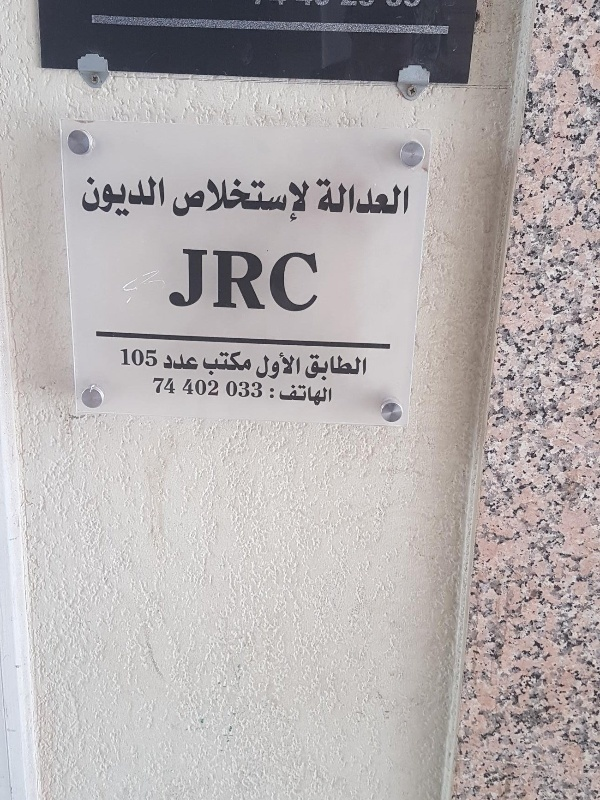text: (177, 247, 192, 312), (193, 247, 208, 312), (209, 247, 224, 312), (225, 247, 240, 312), (241, 247, 256, 312), (257, 247, 272, 312), (273, 247, 288, 312), (289, 247, 304, 312), (305, 247, 320, 312), (177, 177, 192, 223), (193, 177, 208, 223), (209, 177, 224, 223), (225, 177, 240, 223), (241, 177, 256, 223), (257, 177, 272, 223), (273, 177, 288, 223), (289, 177, 304, 223), (97, 175, 112, 218), (113, 175, 128, 218), (129, 175, 144, 218), (145, 175, 160, 218), (82, 175, 96, 218), (167, 247, 176, 312), (321, 177, 336, 215), (337, 177, 352, 215), (353, 177, 368, 215), (369, 177, 384, 215), (385, 177, 400, 215), (305, 352, 320, 382), (321, 352, 336, 382), (337, 352, 352, 382), (353, 352, 368, 382), (257, 351, 272, 380), (273, 351, 288, 380), (209, 348, 224, 375), (225, 348, 240, 375), (401, 177, 411, 215), (289, 351, 301, 380), (289, 383, 304, 406), (305, 383, 320, 406), (241, 378, 256, 400), (161, 375, 177, 395), (193, 376, 208, 397), (226, 378, 240, 400), (129, 347, 144, 367), (241, 348, 252, 375), (177, 353, 192, 371), (145, 347, 158, 367), (321, 383, 332, 406), (163, 353, 176, 371), (171, 177, 176, 223), (305, 177, 310, 223), (209, 376, 219, 397), (279, 383, 288, 406), (183, 376, 192, 397), (161, 175, 165, 218), (316, 177, 320, 215), (121, 347, 128, 367), (153, 375, 160, 395), (203, 348, 208, 375), (257, 378, 263, 400), (321, 247, 323, 312), (193, 353, 200, 371), (270, 384, 272, 401), (273, 384, 275, 401)
